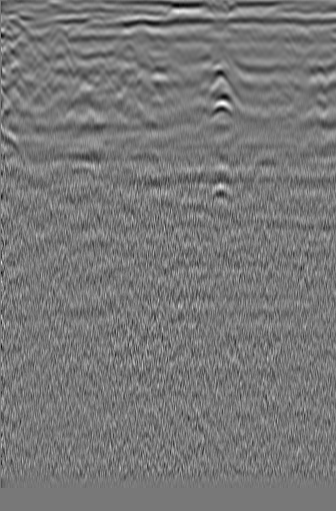가스: (202, 86, 242, 131)
상수: (4, 25, 47, 62)
오수: (265, 27, 301, 55)
우수: (125, 24, 156, 50)
